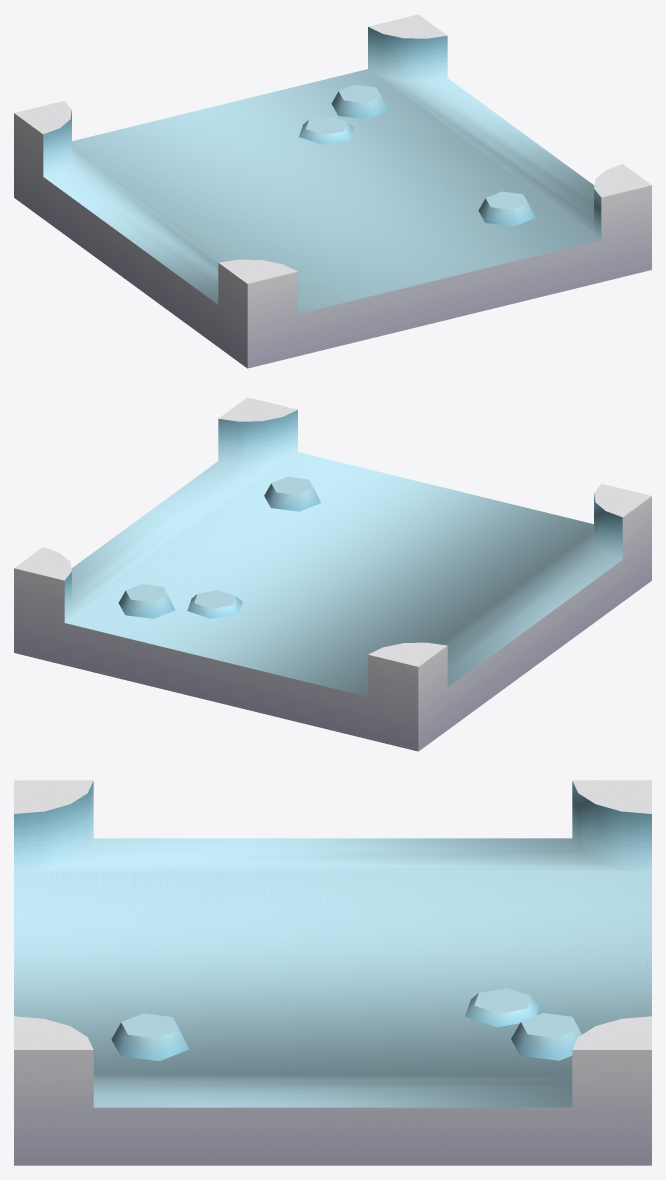
File: snow-tile-crossing.glb
3 renders of one model, top to bottom at view 1: azimuth 30°, elevation 25°; view 2: azimuth 150°, elevation 25°; view 3: azimuth 270°, elevation 25°, orthographic. The views are drawn at different scales.
Parts seen in each view (by area): view 1: snow-tile-crossing; view 2: snow-tile-crossing; view 3: snow-tile-crossing.
Part boxes in pixels (x1,y1,x2,y2): snow-tile-crossing: [14, 14, 651, 368]; snow-tile-crossing: [14, 397, 651, 751]; snow-tile-crossing: [14, 780, 651, 1165].
Size of the model in its own units: 3 by 0.6 by 3.
1 material, 1 textured.
